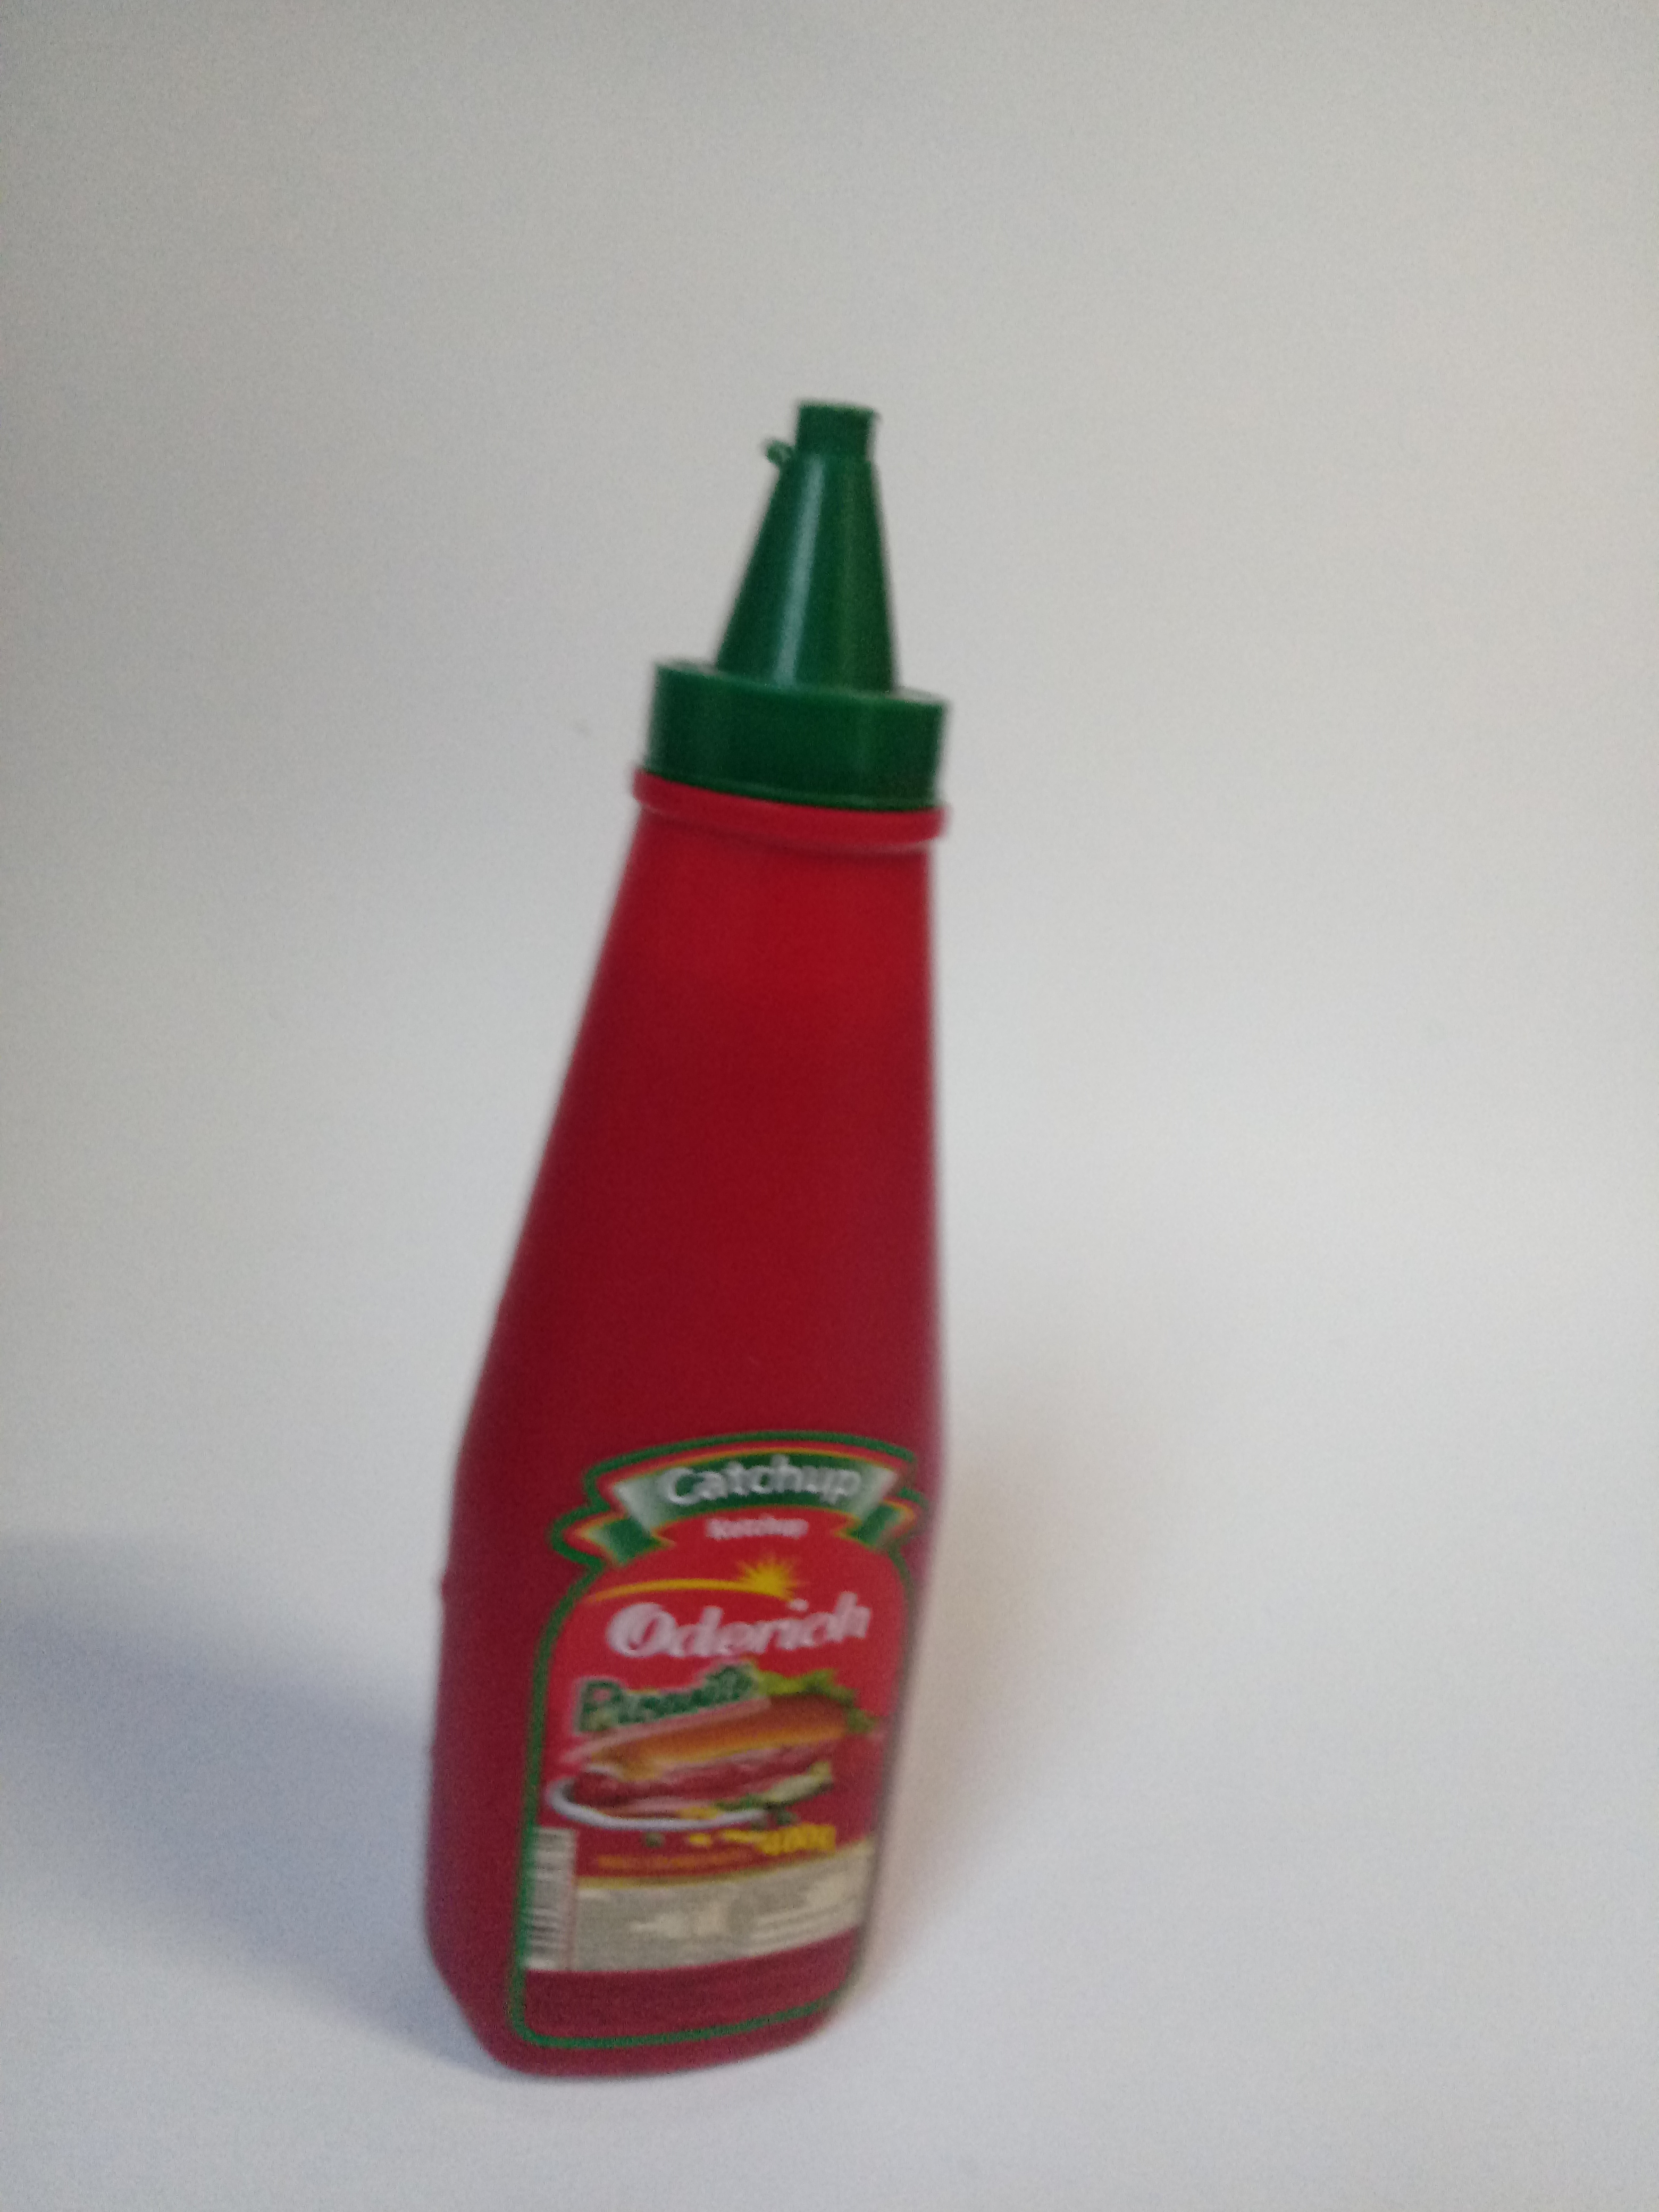catchup-oderich: (396, 345, 948, 2088)
